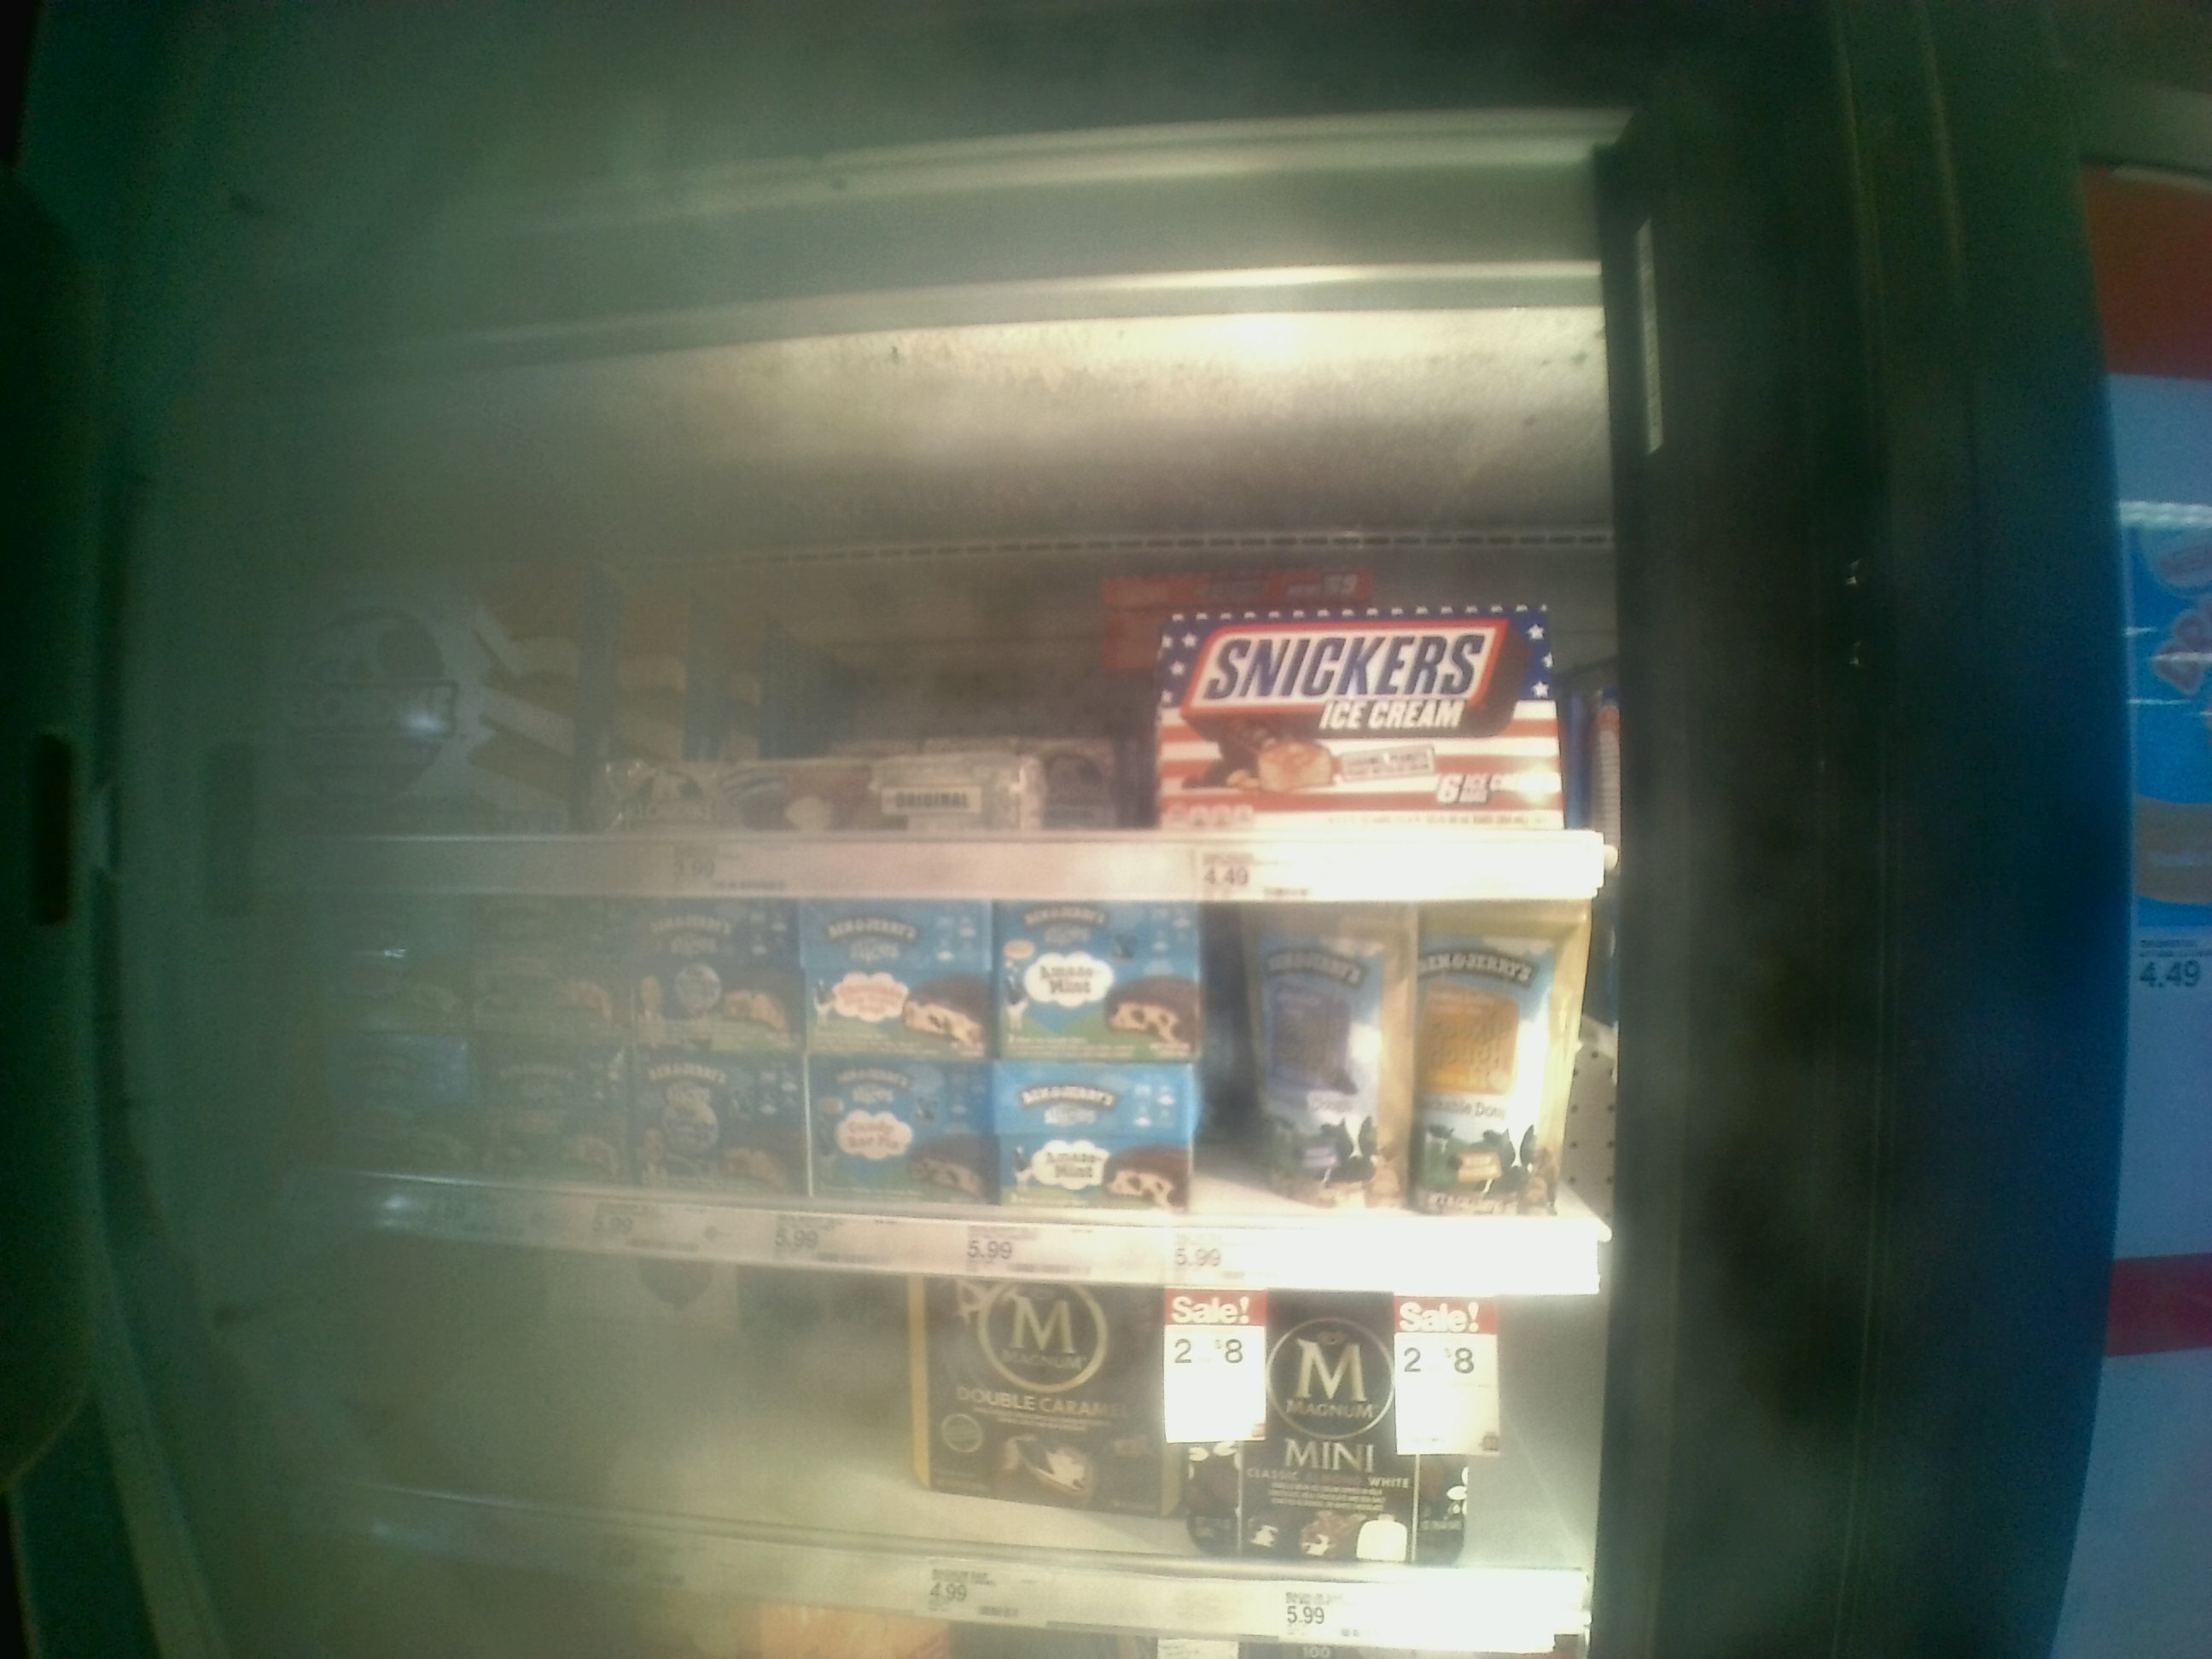ice-cream-shelf: (249, 387, 1604, 903)
